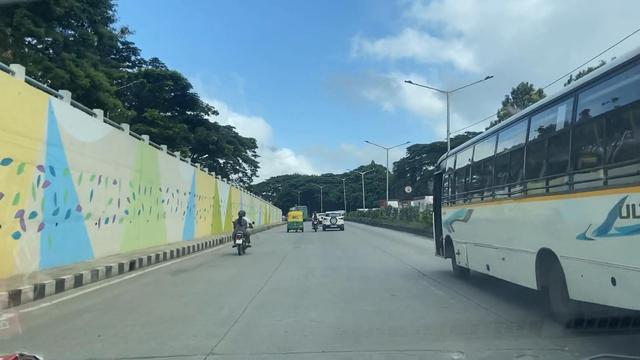HMV: (433, 75, 640, 300)
LMV: (231, 213, 252, 251)
